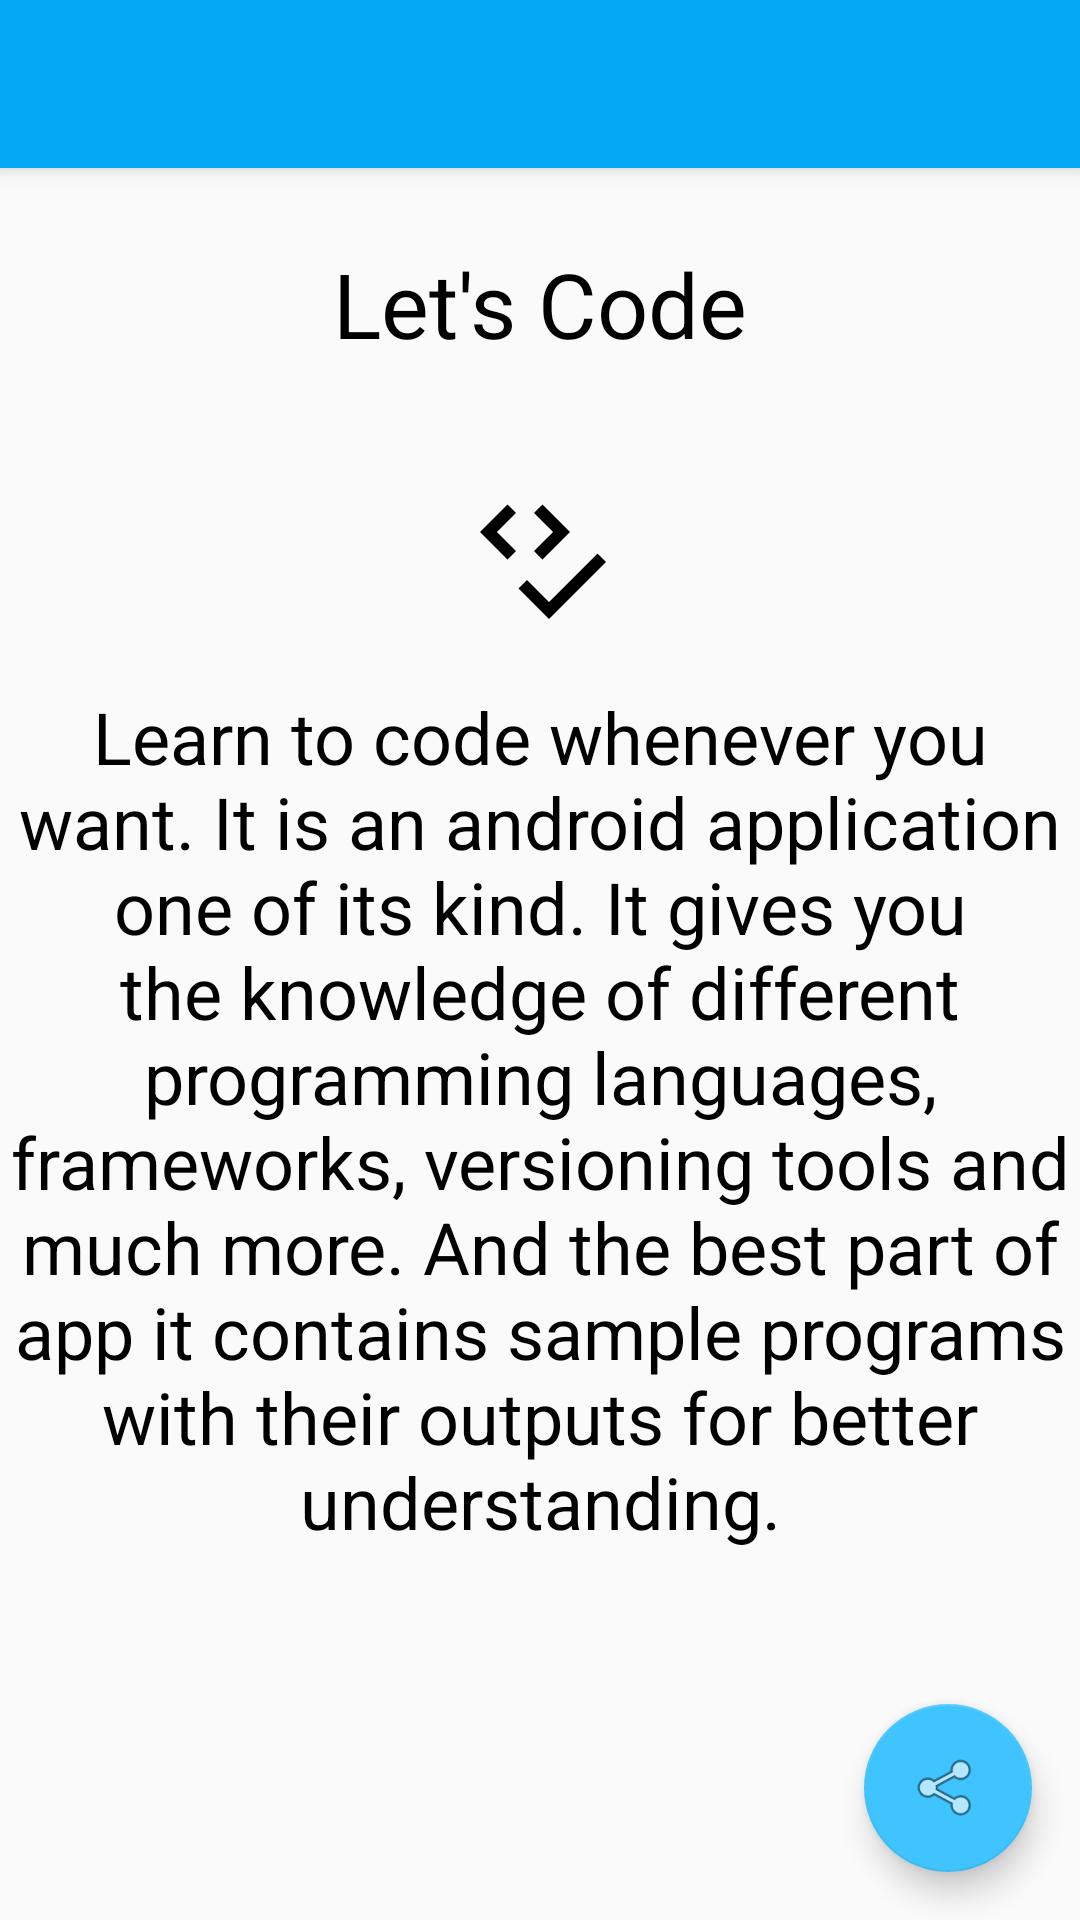

Locate icon controls on the screen. Image size 1080 × 1920, boxes as (x1, y1, x2, y2).
share: (864, 1704, 1032, 1872)
